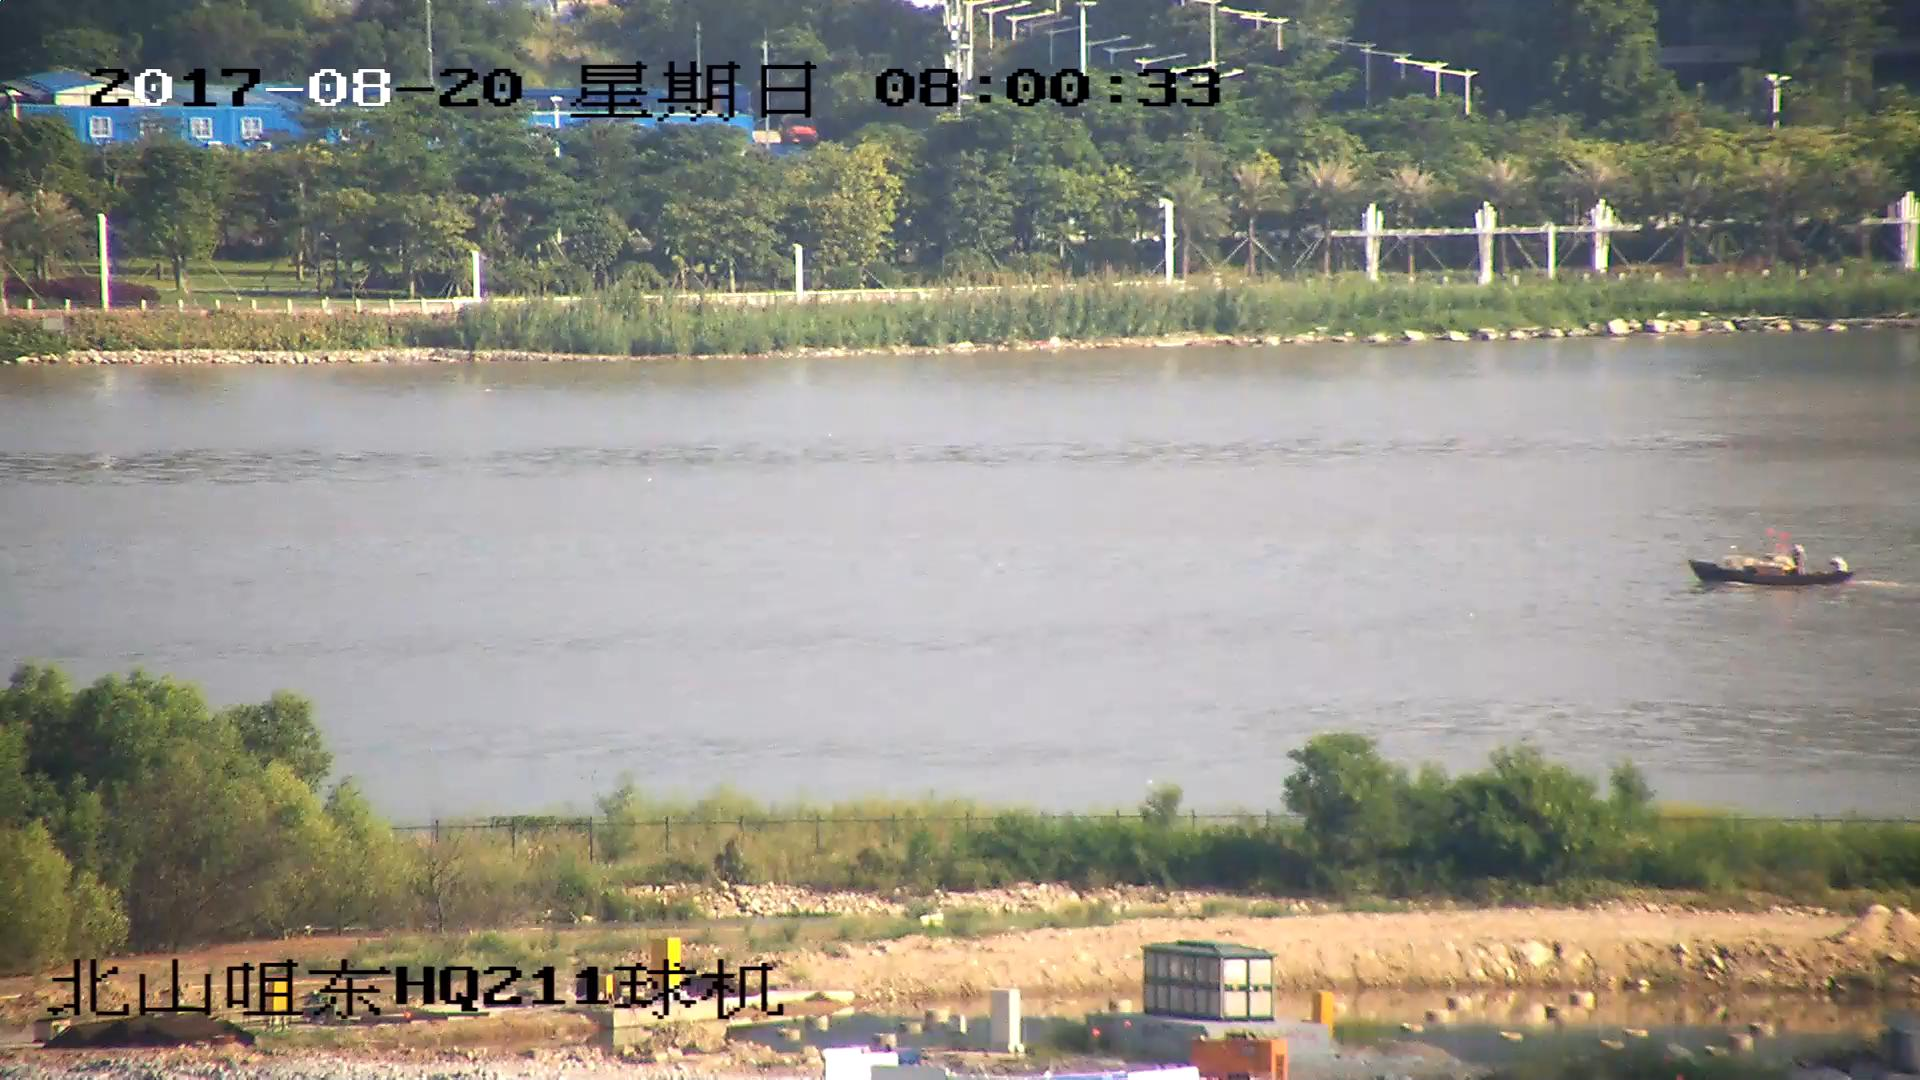fishing boat: (1696, 533, 1852, 588)
